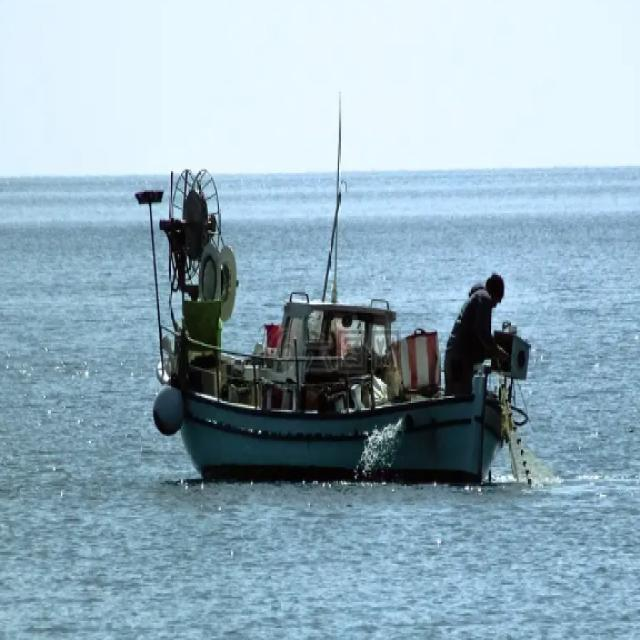fishing boat: (140, 164, 526, 497)
